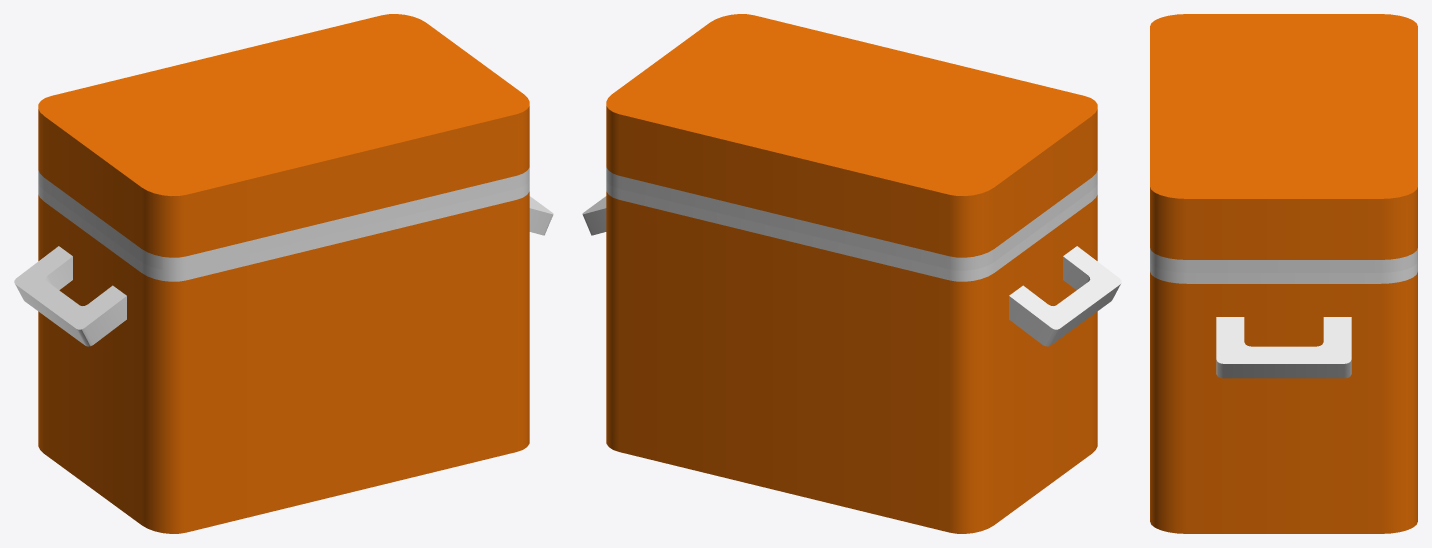
File: Box Orange.fbx
3 renders of one model, left to right at view 1: azimuth 30°, elevation 25°; view 2: azimuth 150°, elevation 25°; view 3: azimuth 270°, elevation 25°, orthographic.
Visible parts, largest first — view 1: Box Orange, Box Cap Orange; view 2: Box Orange, Box Cap Orange; view 3: Box Orange, Box Cap Orange.
Boxes of the visible parts, x1,y1,x2,y2 form: Box Orange: [14, 180, 553, 533]; Box Cap Orange: [38, 14, 529, 270]; Box Orange: [582, 180, 1121, 533]; Box Cap Orange: [606, 14, 1097, 270]; Box Orange: [1150, 261, 1417, 533]; Box Cap Orange: [1150, 14, 1417, 272].
Bounding box in the file's own units: 169 × 114 × 82.92.
